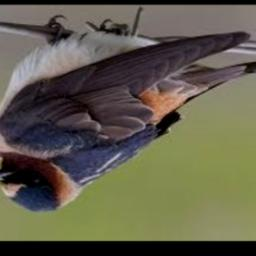Swallow: (0, 30, 256, 213)
